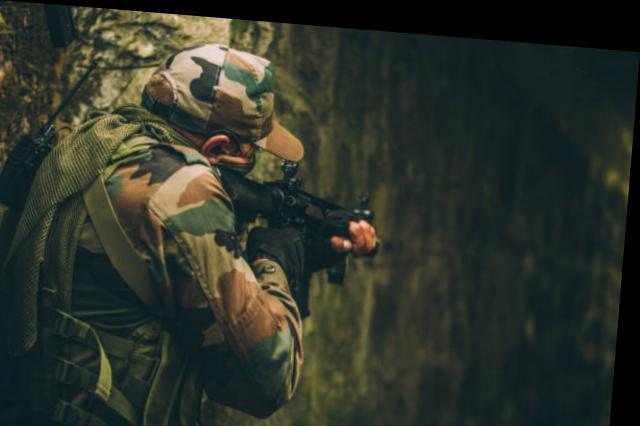other: (0, 32, 320, 424)
